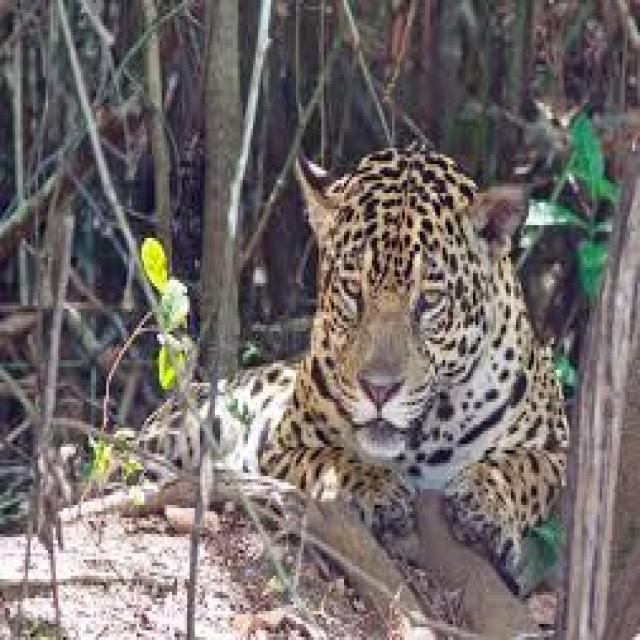Jaguar: (152, 148, 569, 566)
